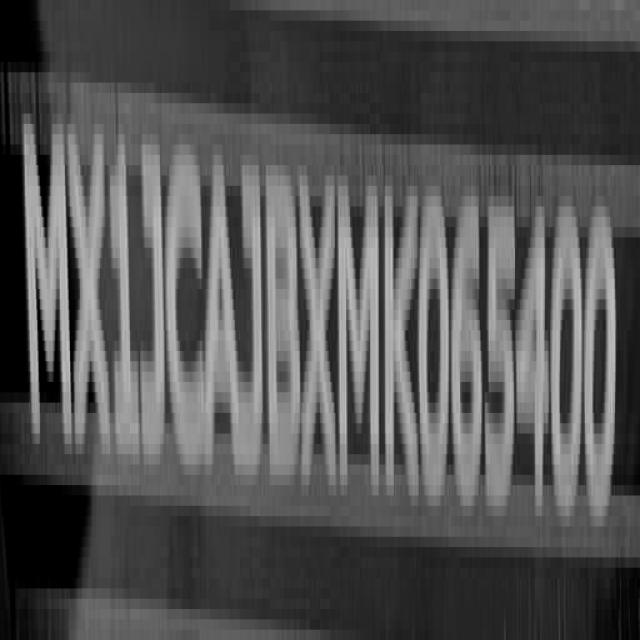0: (585, 203, 622, 522), (418, 175, 452, 518), (548, 192, 582, 525)
1: (109, 119, 139, 462)
4: (518, 188, 552, 528)
5: (484, 180, 519, 516)
6: (450, 179, 484, 524)
A: (202, 149, 240, 474)
B: (266, 157, 302, 489)
C: (164, 145, 204, 497)
J: (236, 153, 264, 482), (141, 130, 164, 470)
K: (384, 149, 418, 493)
M: (24, 98, 72, 461), (341, 160, 385, 508)
X: (69, 109, 113, 465), (299, 159, 340, 502)
